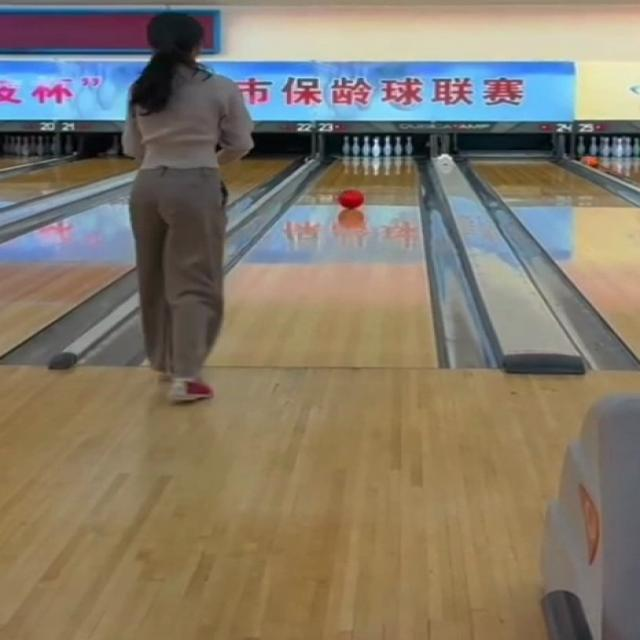alley: (212, 160, 435, 365)
balls: (338, 190, 363, 209)
bottle: (339, 135, 415, 157)
